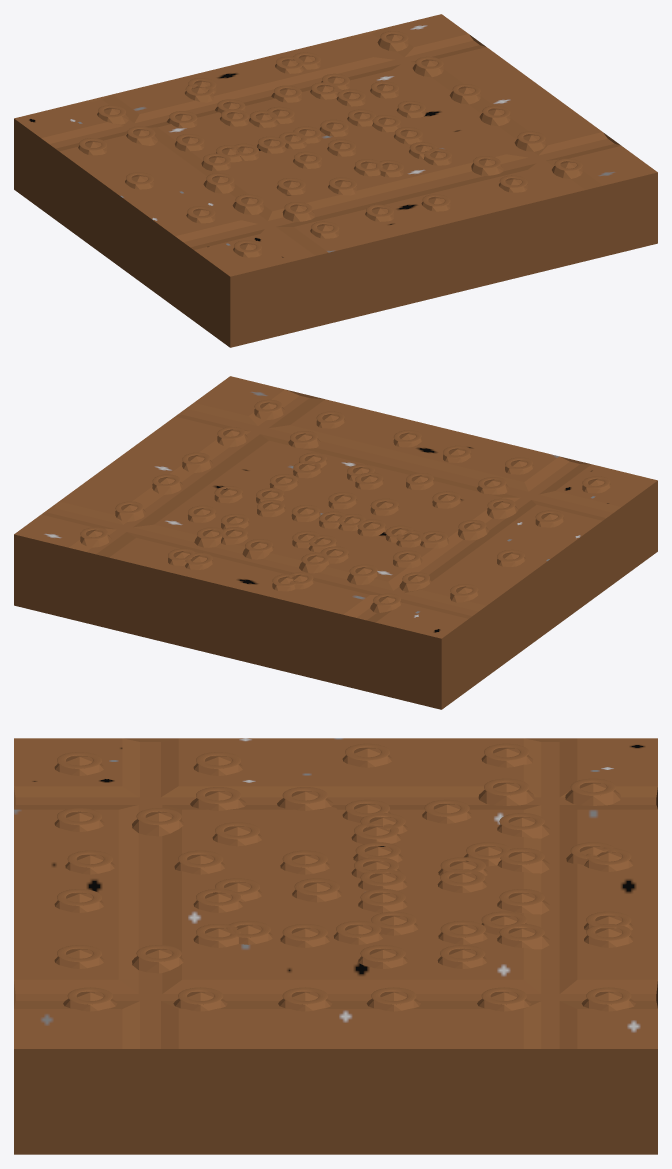
File: Stage2 Potatos.fbx
3 views of the same model, one above another, from view 1: azimuth 30°, elevation 25°; view 2: azimuth 150°, elevation 25°; view 3: azimuth 270°, elevation 25° (orthographic). The views are drawn at different scales.
Parts seen in each view (by area): view 1: Cube, Icosphere; view 2: Cube, Icosphere; view 3: Cube, Icosphere.
Boxes of the visible parts, x1,y1,x2,y2 form: Cube: (14,14,657,347); Icosphere: (78,31,582,257); Cube: (14,376,657,709); Icosphere: (80,399,611,612); Cube: (14,738,657,1154); Icosphere: (54,743,635,1011).
Bounding box in the file's own units: 389 × 111 × 341.
